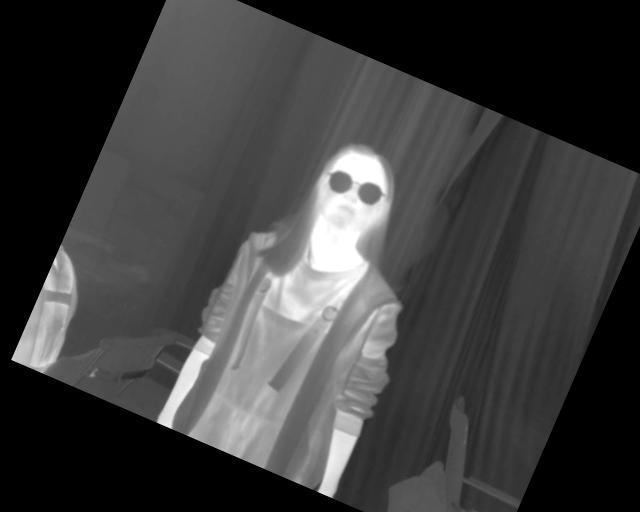face: (303, 133, 408, 245)
